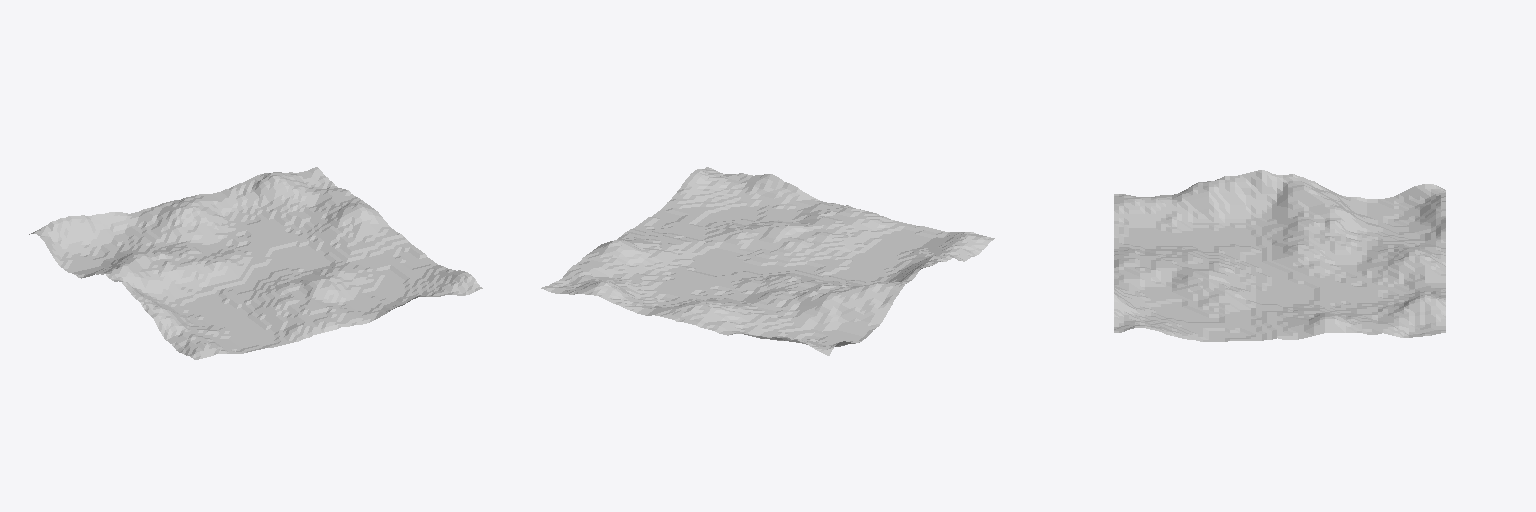
Rendered from land.obj.
The picture shows the model from 3 angles: view 1: azimuth 30°, elevation 25°; view 2: azimuth 150°, elevation 25°; view 3: azimuth 270°, elevation 25°; orthographic projection.
Parts seen in each view (by area): view 1: terrain; view 2: terrain; view 3: terrain.
Boxes of the visible parts, x1=… form: terrain: x1=29, y1=167, x2=482, y2=359; terrain: x1=541, y1=167, x2=994, y2=355; terrain: x1=1114, y1=170, x2=1445, y2=341.
Size of the model in its own units: 1890 by 200 by 1890.